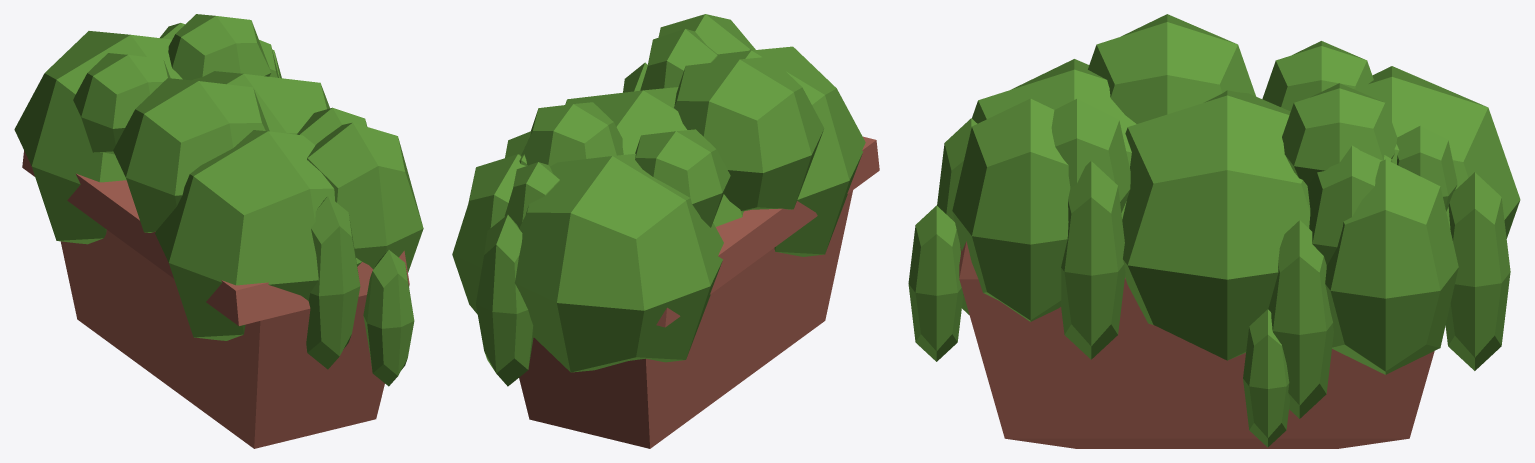
Rendered from window plant longleaves .fbx.
3 views of the same model, side by side, from view 1: azimuth 30°, elevation 25°; view 2: azimuth 150°, elevation 25°; view 3: azimuth 270°, elevation 25° (orthographic). The views are drawn at different scales.
Visible parts, largest first — view 1: Pot1.001, Leaf3.001, Leaf13.001, Leaf6.001, Leaf1.001, Leaf.001, Leaf12.001, Leaf11.001, Leaf16.001, Leaf5.001, Leaf4.001; view 2: Leaf6.001, Pot1.001, Leaf13.001, Leaf3.001, Leaf8.001, Leaf12.001, Leaf11.001, Leaf17, Leaf5.001, Leaf4.001, Leaf1.001, Leaf7.001 (+2 smaller); view 3: Pot1.001, Leaf5.001, Leaf17, Leaf1.001, Leaf13.001, Leaf2.001, Leaf8.001, Leaf6.001, Leaf14.001, Leaf11.001, Leaf16.001, Leaf4.001 (+6 smaller).
Boxes of the visible parts, box(x1,y1,x2,y2) form: Pot1.001: box(22, 150, 409, 448); Leaf3.001: box(155, 130, 361, 340); Leaf13.001: box(113, 78, 269, 232); Leaf6.001: box(14, 31, 182, 244); Leaf1.001: box(307, 122, 423, 272); Leaf.001: box(306, 196, 360, 369); Leaf12.001: box(73, 53, 170, 154); Leaf11.001: box(168, 14, 271, 80); Leaf16.001: box(363, 250, 414, 386); Leaf5.001: box(192, 71, 329, 134); Leaf4.001: box(297, 107, 367, 145); Leaf6.001: box(514, 153, 723, 372); Pot1.001: box(519, 136, 879, 448); Leaf13.001: box(674, 56, 824, 211); Leaf3.001: box(712, 46, 865, 256); Leaf8.001: box(476, 214, 533, 386); Leaf12.001: box(635, 129, 730, 227); Leaf11.001: box(521, 102, 623, 166); Leaf17: box(452, 154, 525, 314); Leaf5.001: box(565, 87, 743, 226); Leaf4.001: box(640, 28, 717, 90); Leaf1.001: box(658, 14, 755, 54); Leaf7.001: box(504, 162, 559, 227); Pot1.001: box(959, 241, 1434, 448); Leaf5.001: box(1122, 90, 1310, 360); Leaf17: box(1325, 159, 1458, 374); Leaf1.001: box(952, 98, 1070, 321); Leaf13.001: box(1088, 14, 1255, 123); Leaf2.001: box(1060, 161, 1125, 359); Leaf8.001: box(1445, 172, 1510, 370); Leaf6.001: box(1354, 66, 1520, 238); Leaf14.001: box(1268, 220, 1333, 418); Leaf11.001: box(1282, 83, 1397, 185); Leaf16.001: box(908, 205, 963, 361); Leaf4.001: box(1051, 98, 1130, 212).
Size of the model in its own units: 32.64 by 40.1 by 58.59.
